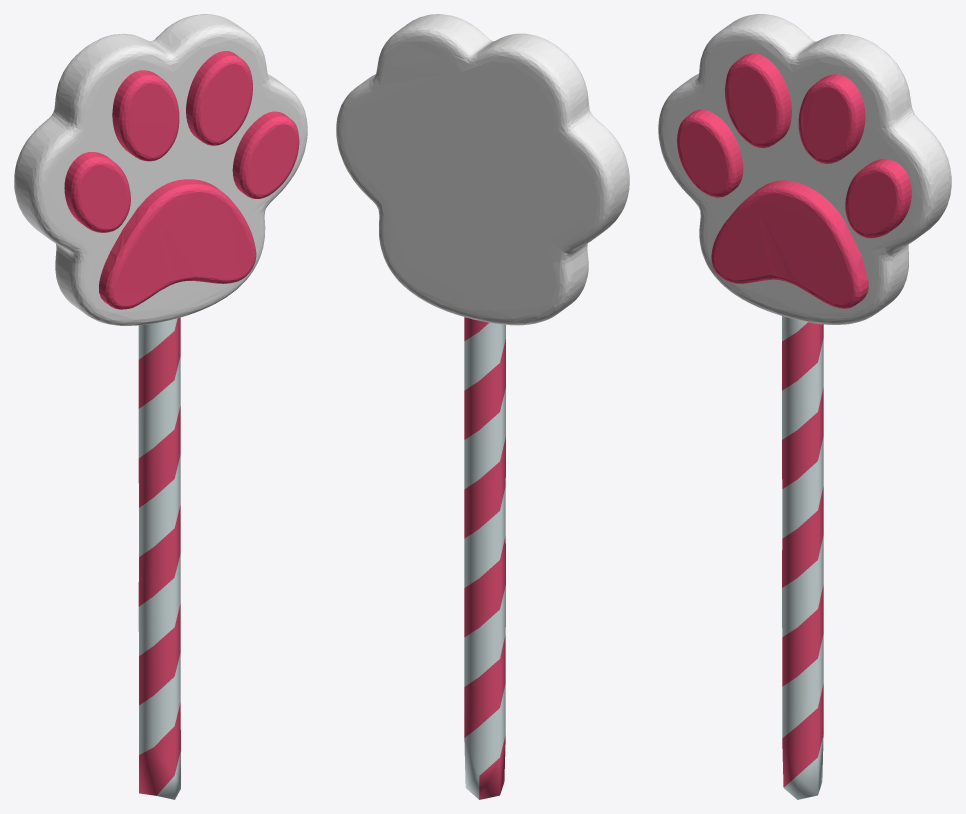
Rendered from mzbbt.fbx.
3 renders of one model, left to right at view 1: azimuth 30°, elevation 25°; view 2: azimuth 150°, elevation 25°; view 3: azimuth 330°, elevation 25°, orthographic.
Visible parts, largest first — view 1: tangguo_194; view 2: tangguo_194; view 3: tangguo_194.
Part boxes in pixels (box(x1,y1,x2,y2)): tangguo_194: box(14, 14, 307, 799); tangguo_194: box(336, 14, 629, 799); tangguo_194: box(658, 14, 951, 799).
Bounding box in the file's own units: 0.8323 × 2.19 × 0.1812.
